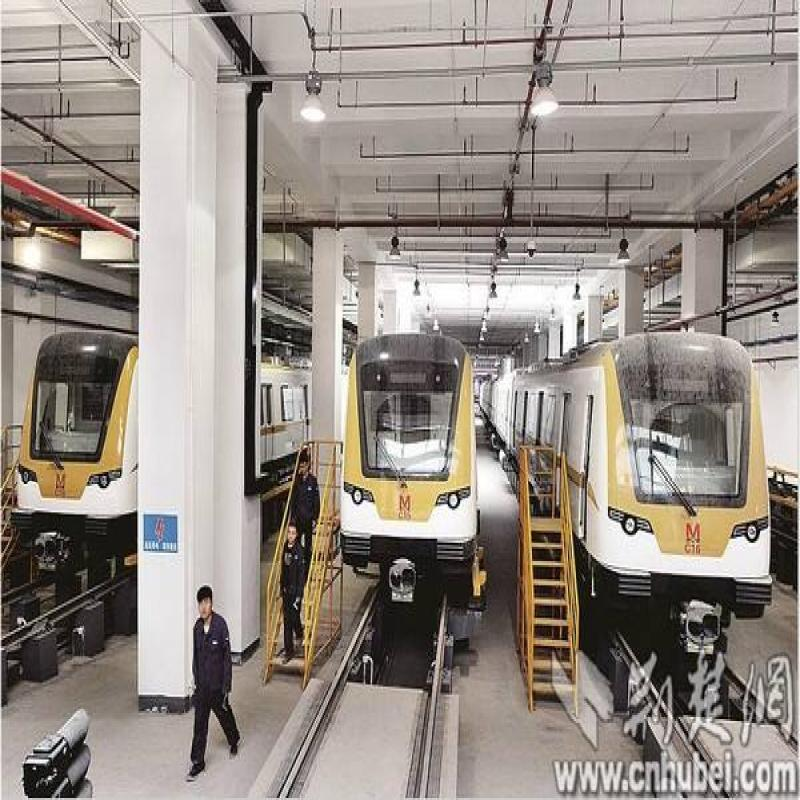train: (530, 345, 773, 645), (345, 344, 484, 595), (26, 325, 152, 552)
